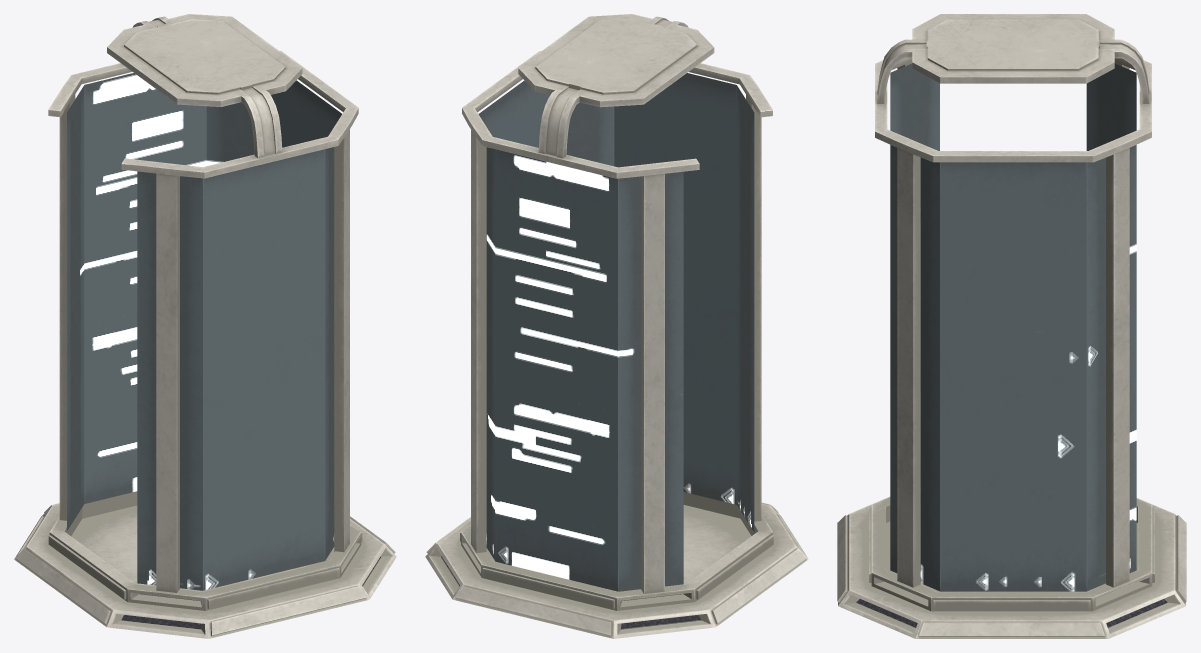
The model's file is SM_Bathroom_Shower.fbx.
3 views of the same model, side by side, from view 1: azimuth 30°, elevation 25°; view 2: azimuth 150°, elevation 25°; view 3: azimuth 270°, elevation 25° (orthographic). The views are drawn at different scales.
Parts seen in each view (by area): view 1: SM_Bathroom_Shower_LOD0; view 2: SM_Bathroom_Shower_LOD0; view 3: SM_Bathroom_Shower_LOD0.
Part boxes in pixels (left/top/right/bottom): SM_Bathroom_Shower_LOD0: left=14, top=14, right=396, bottom=638; SM_Bathroom_Shower_LOD0: left=425, top=14, right=808, bottom=638; SM_Bathroom_Shower_LOD0: left=837, top=14, right=1186, bottom=638.
Size of the model in its own units: 136 by 224 by 136.
Materials: 2 (2 with a texture image).
